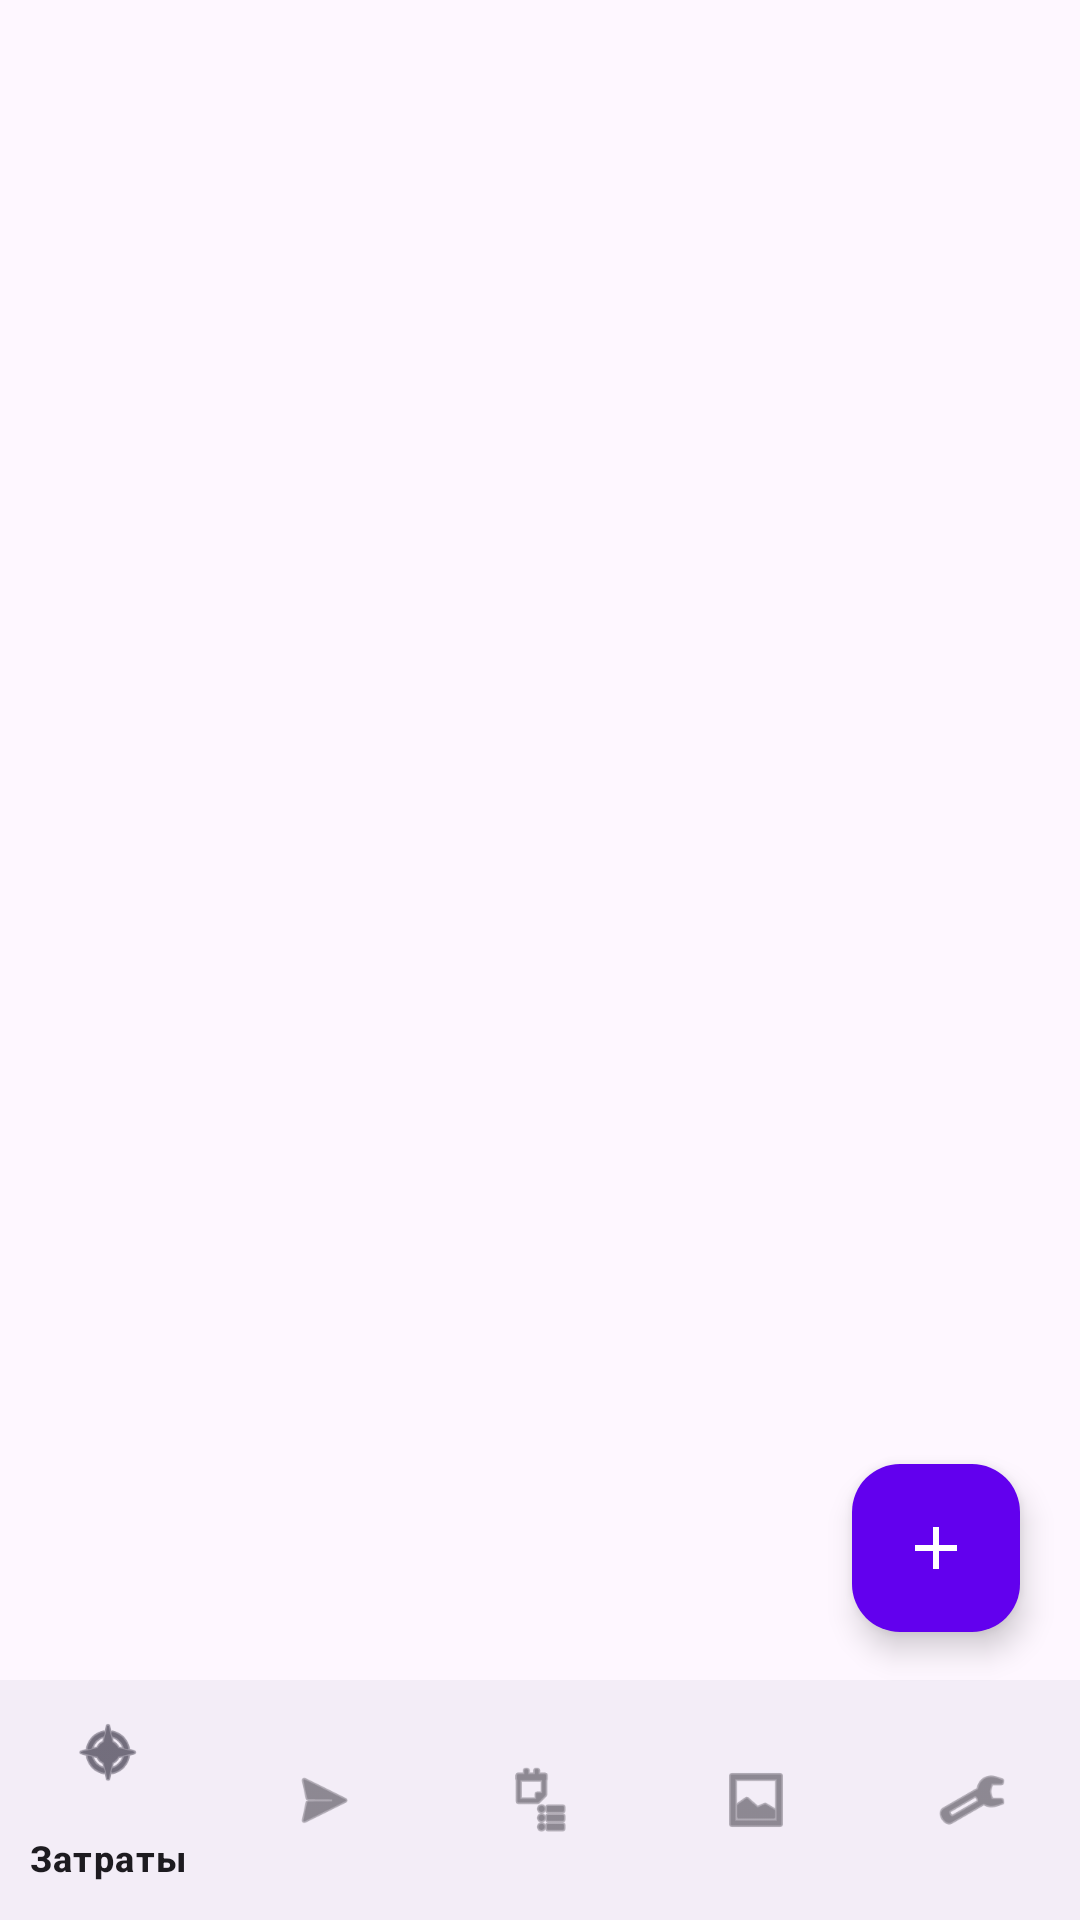

Screen size 1080 × 1920. Icon name, then its center in pixels as point (x, y):
add: point (936, 1548)
